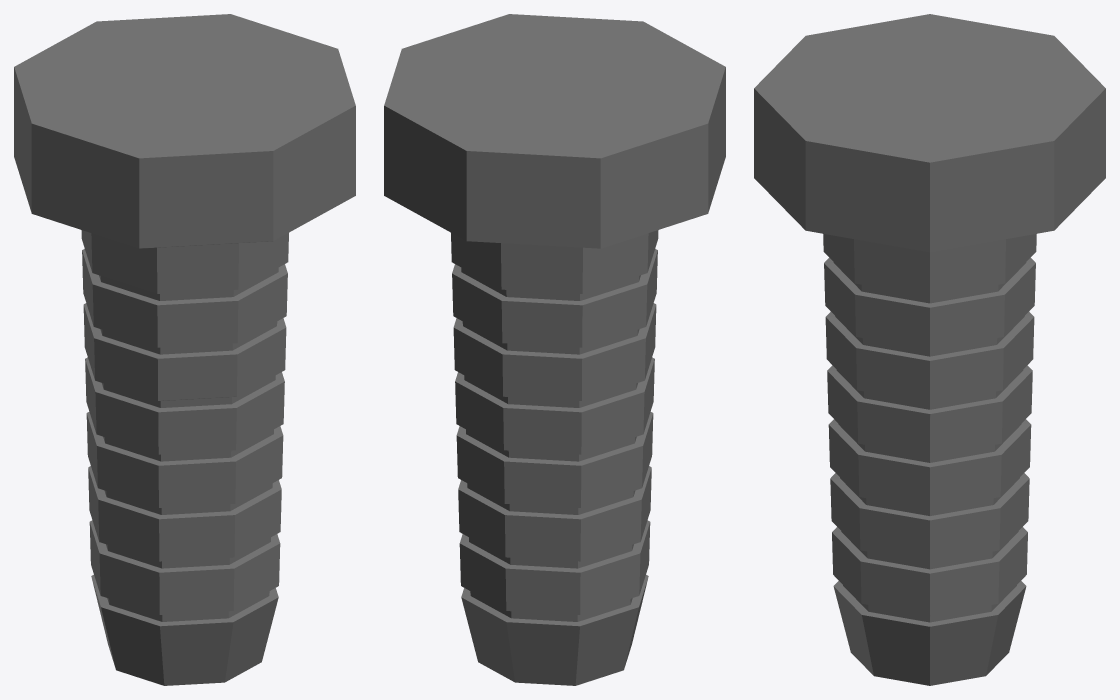
Rendered from Baut.fbx.
The picture shows the model from 3 angles, left to right: view 1: azimuth 30°, elevation 25°; view 2: azimuth 150°, elevation 25°; view 3: azimuth 270°, elevation 25°; orthographic projection.
Visible parts, largest first — view 1: Cylinder.006; view 2: Cylinder.006; view 3: Cylinder.006.
Part boxes in pixels (x1=…): Cylinder.006: x1=14, y1=14, x2=355, y2=685; Cylinder.006: x1=384, y1=14, x2=725, y2=685; Cylinder.006: x1=754, y1=14, x2=1105, y2=685.
Size of the model in its own units: 10.13 by 17.92 by 10.13.
Materials: 1 (1 with a texture image).
